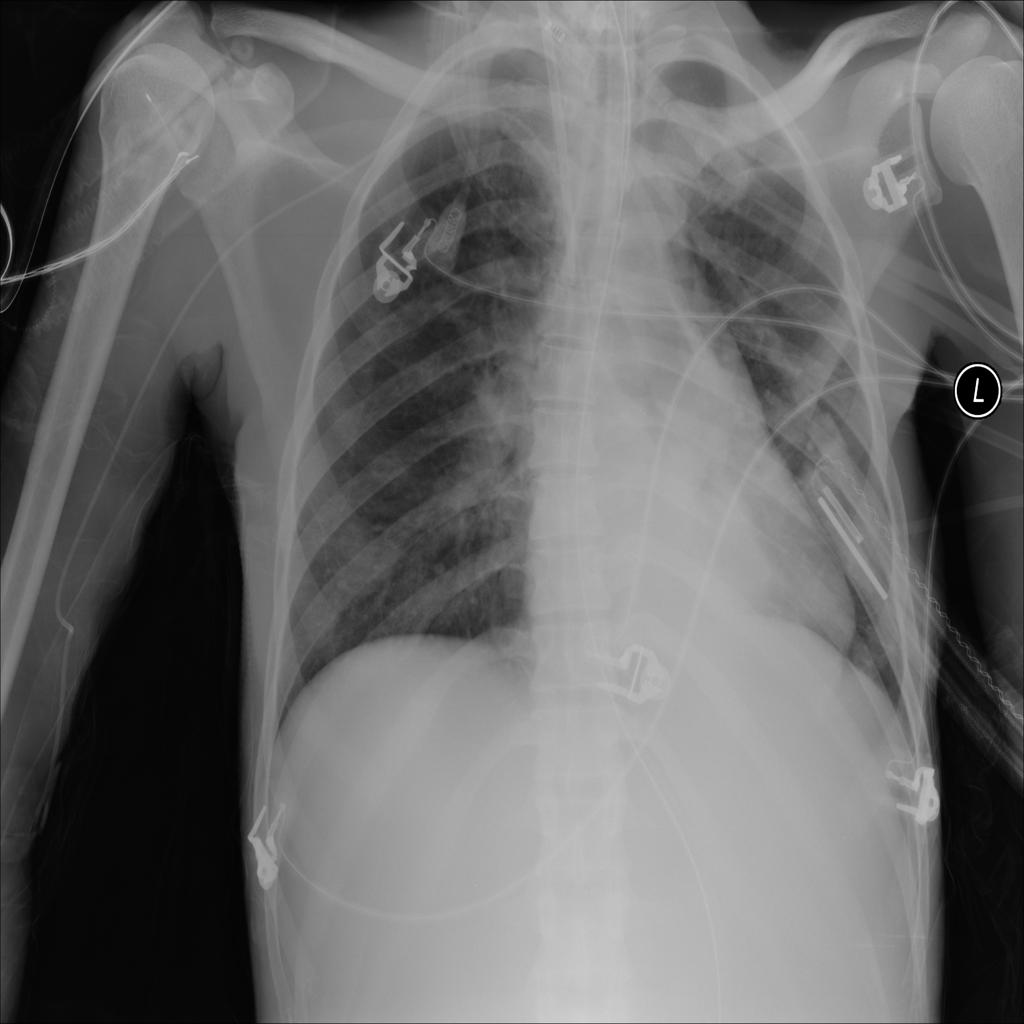nodule: (307, 494, 408, 613)
